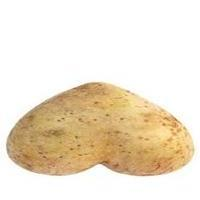biodegradable: (5, 80, 196, 177)
